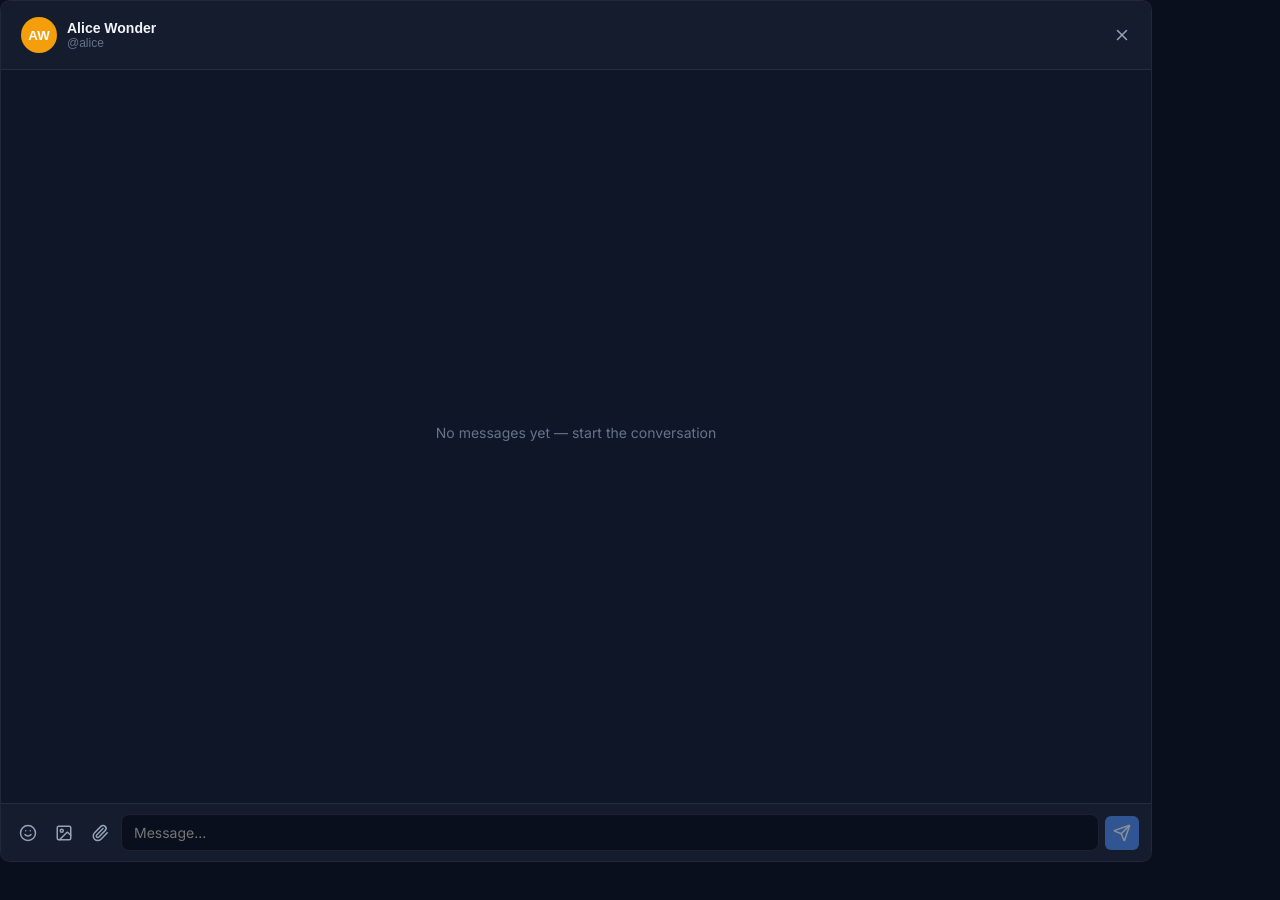
Test: ChatView › sends a text message
Check: the text "No messages yet — start the conversation" is shown, box [436,424,716,441]
Type "Hello there" into the field with placeholder "Message..." at (610, 832), box [121,814,1099,851]
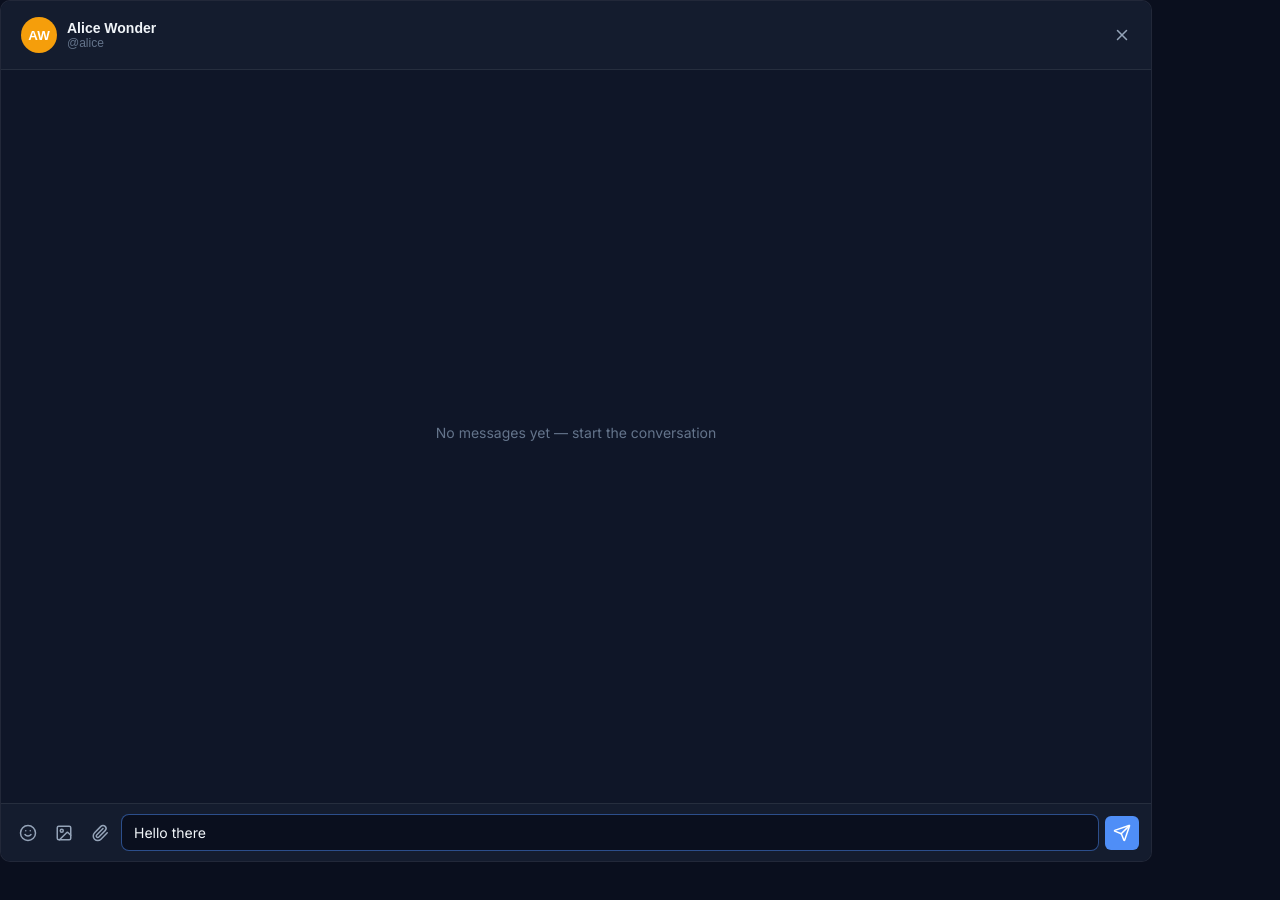
Click the button named "send" at (1122, 832), box [1105,816,1139,850]
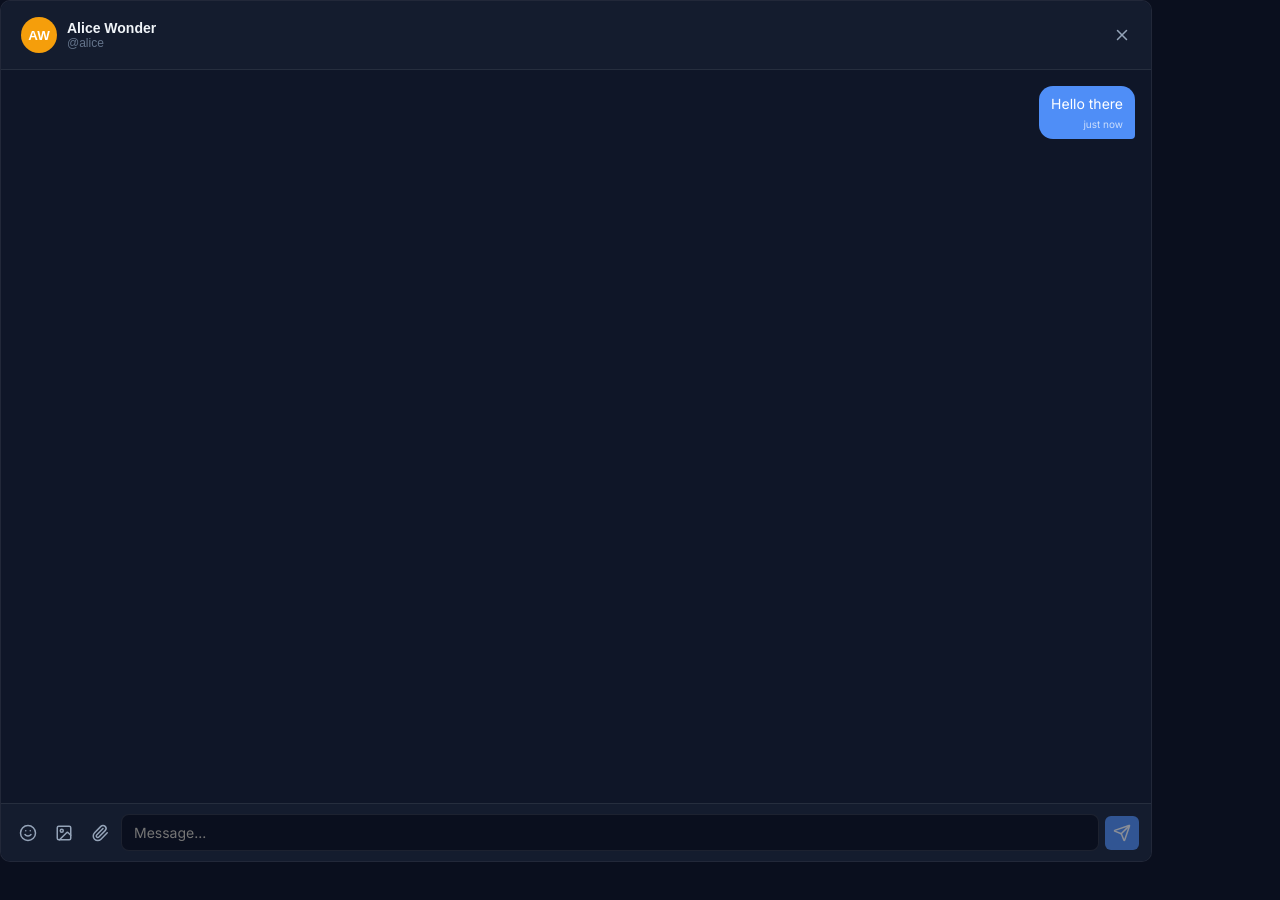
Check: the text "Hello there" is shown, box [1051,94,1123,114]
